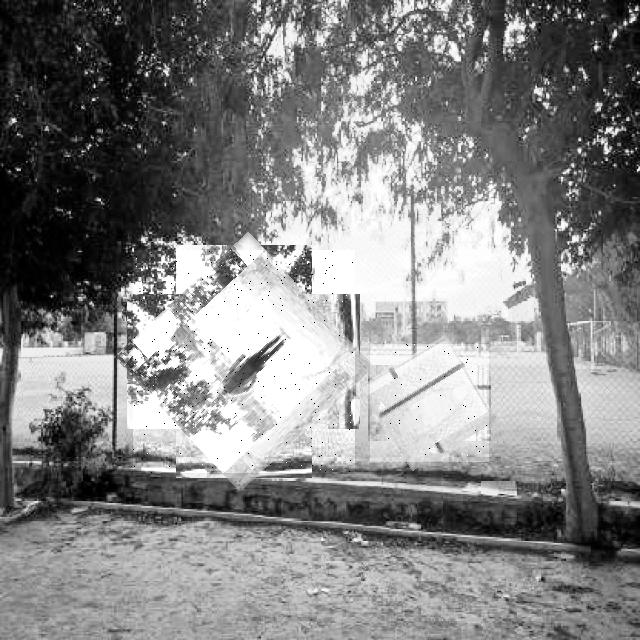anomaly-fence: (133, 250, 355, 473), (370, 344, 489, 462)
